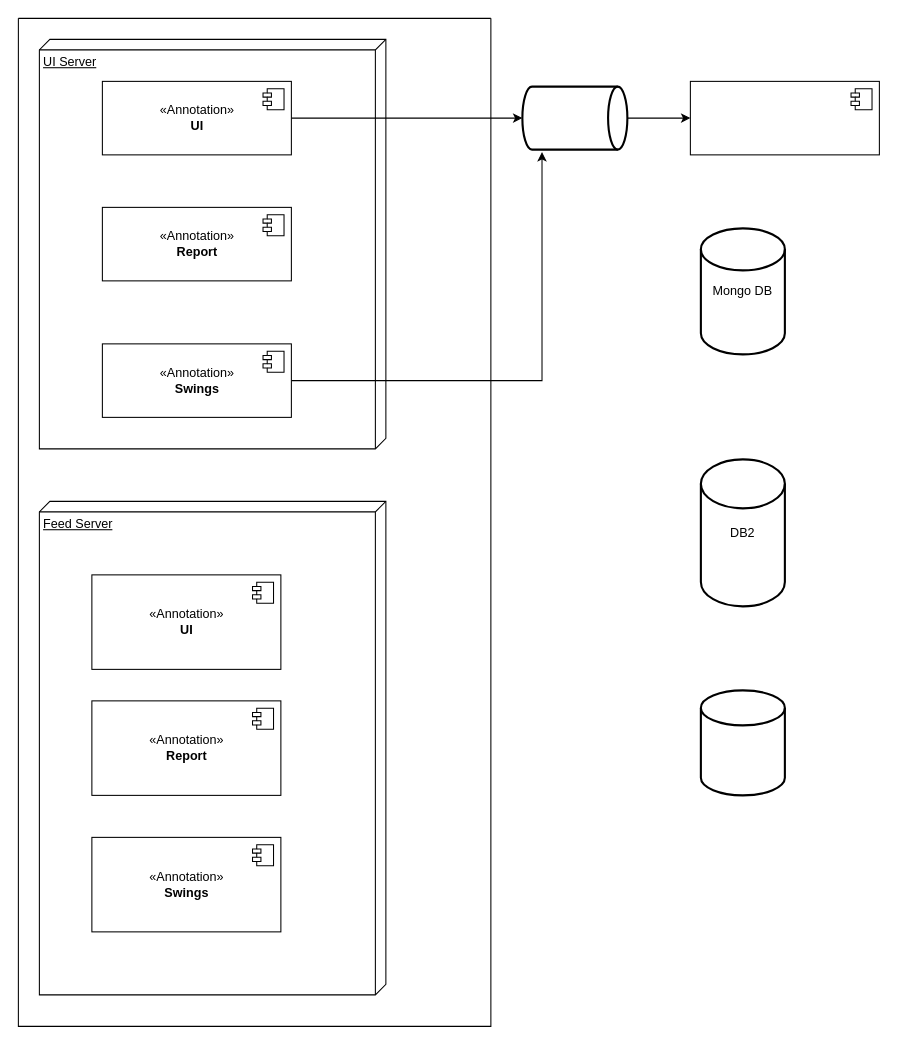
The diagram is 898 pixels wide and 1045 high, and some of its shapes have lost their labels. Here are the shapes that lost their labels. From the top down, the centre of each, then its label:
point 784,117: «Annotation» Component
point 742,742: DB1
